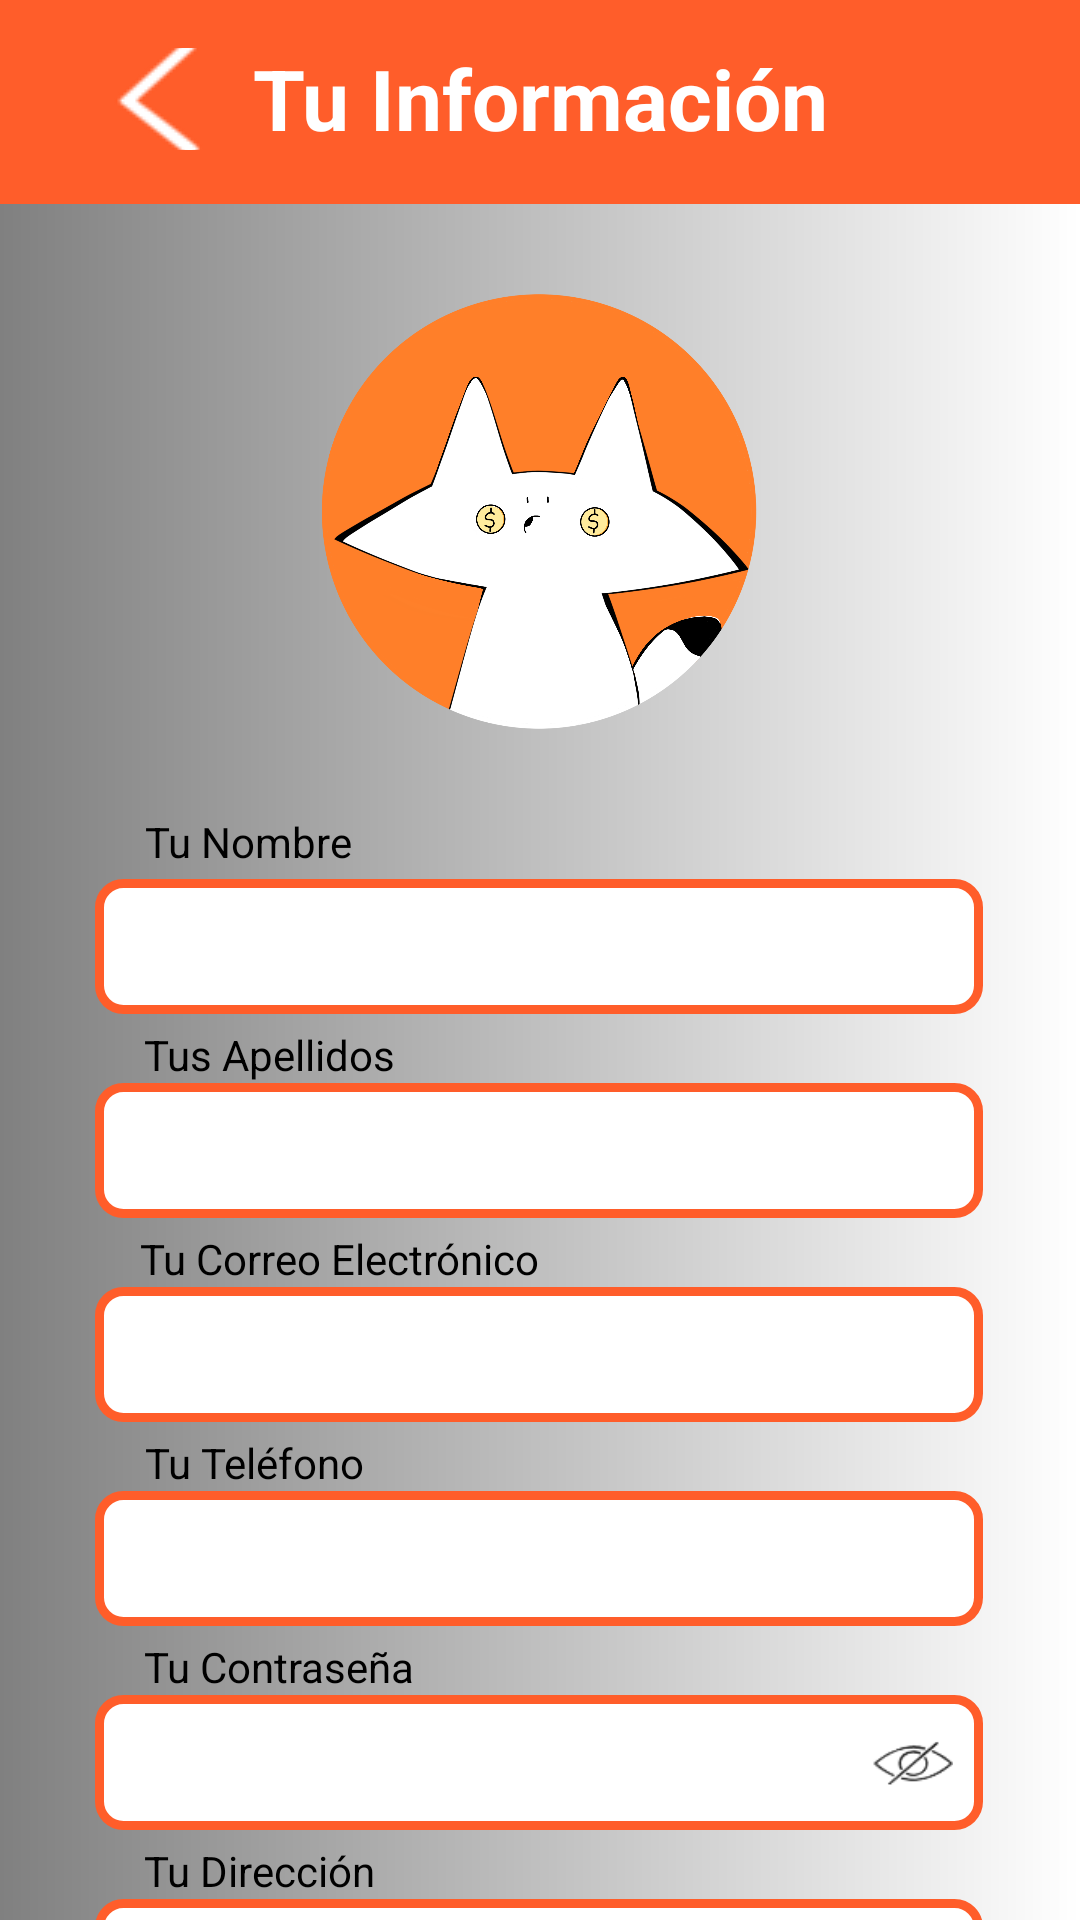

Named icons in this screenshot (1080 x 1920) and their centers, (x,y):
devolver: (159,99)
eye closed: (913,1763)
